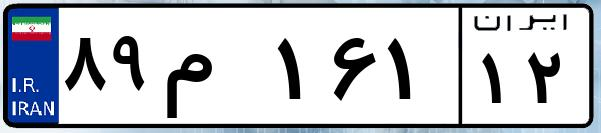1: (270, 28, 330, 110), (385, 28, 445, 110), (475, 38, 525, 113)
2: (525, 38, 570, 115)
6: (330, 28, 385, 110)
8: (57, 26, 110, 100)
9: (110, 28, 158, 98)
م: (158, 20, 270, 120)
